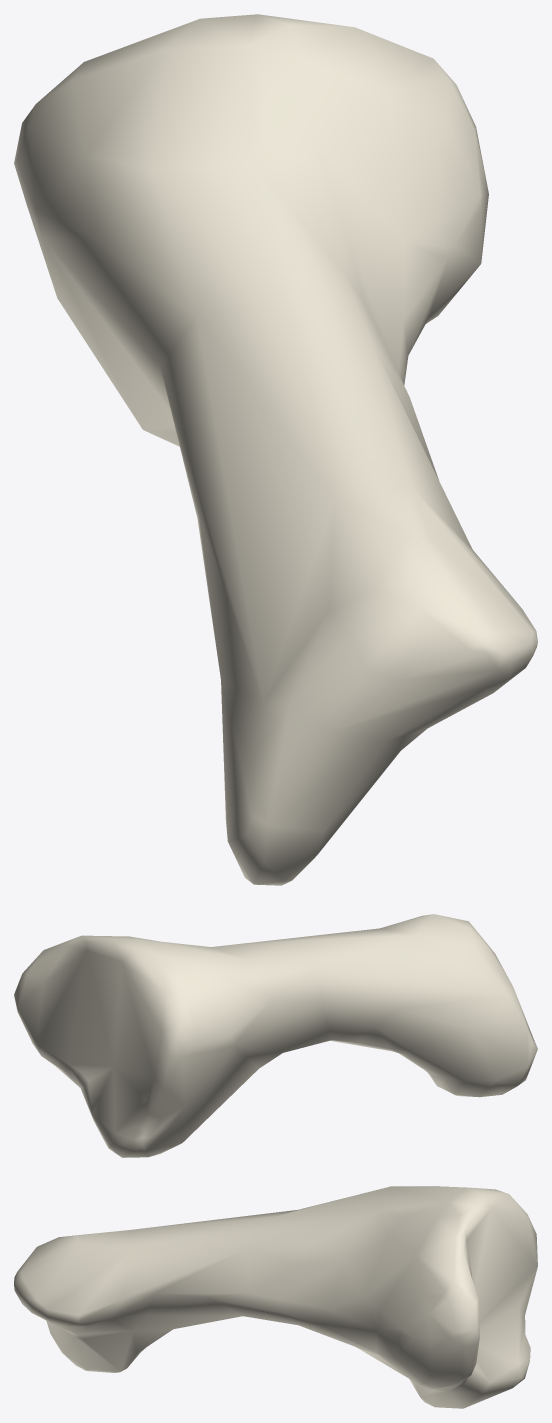
The picture shows the model from 3 angles, top to bottom: view 1: azimuth 30°, elevation 25°; view 2: azimuth 150°, elevation 25°; view 3: azimuth 270°, elevation 25°; orthographic projection. The views are drawn at different scales.
Visible parts, largest first — view 1: ZA_0378c0a07cd4e357; view 2: ZA_0378c0a07cd4e357; view 3: ZA_0378c0a07cd4e357.
Boxes of the visible parts, x1,y1,x2,y2 form: ZA_0378c0a07cd4e357: (14,14,537,885); ZA_0378c0a07cd4e357: (14,914,537,1157); ZA_0378c0a07cd4e357: (14,1186,537,1408).
Size of the model in its own units: 0.0181 by 0.0138 by 0.026.
